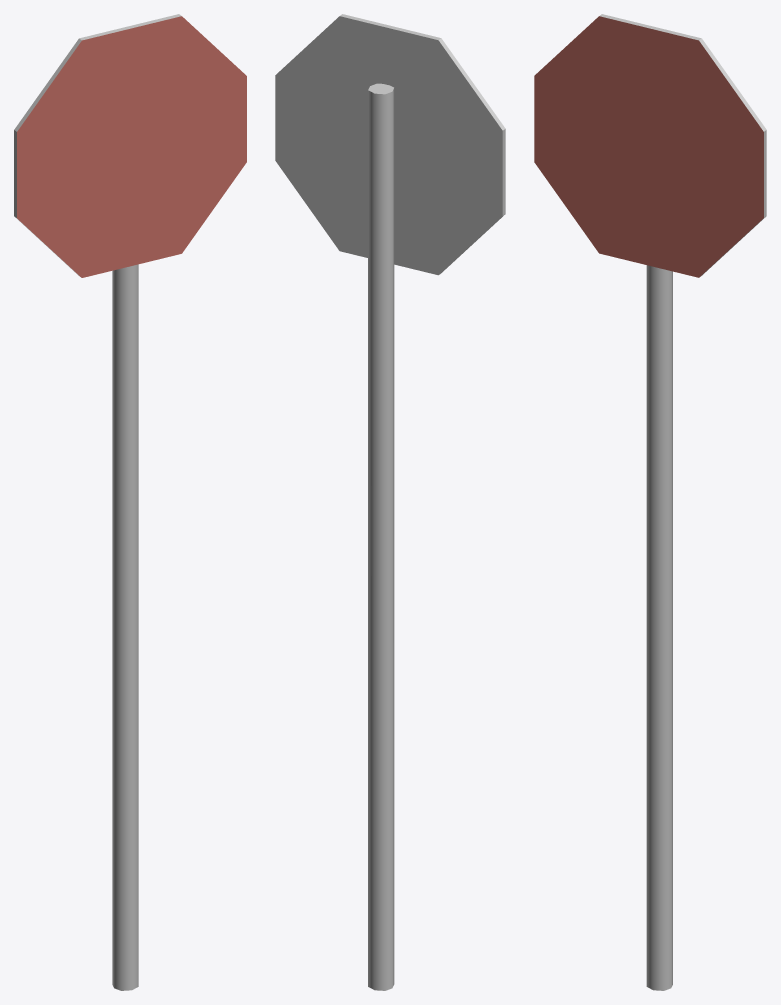
File: SignOctogon.fbx
3 views of the same model, side by side, from view 1: azimuth 30°, elevation 25°; view 2: azimuth 150°, elevation 25°; view 3: azimuth 330°, elevation 25° (orthographic).
Parts seen in each view (by area): view 1: Plane.027; view 2: Plane.027; view 3: Plane.027.
Boxes of the visible parts, x1,y1,x2,y2 form: Plane.027: (14, 14, 246, 990); Plane.027: (275, 14, 505, 990); Plane.027: (534, 14, 766, 990).
Bounding box in the file's own units: 38.62 × 155 × 4.42.
